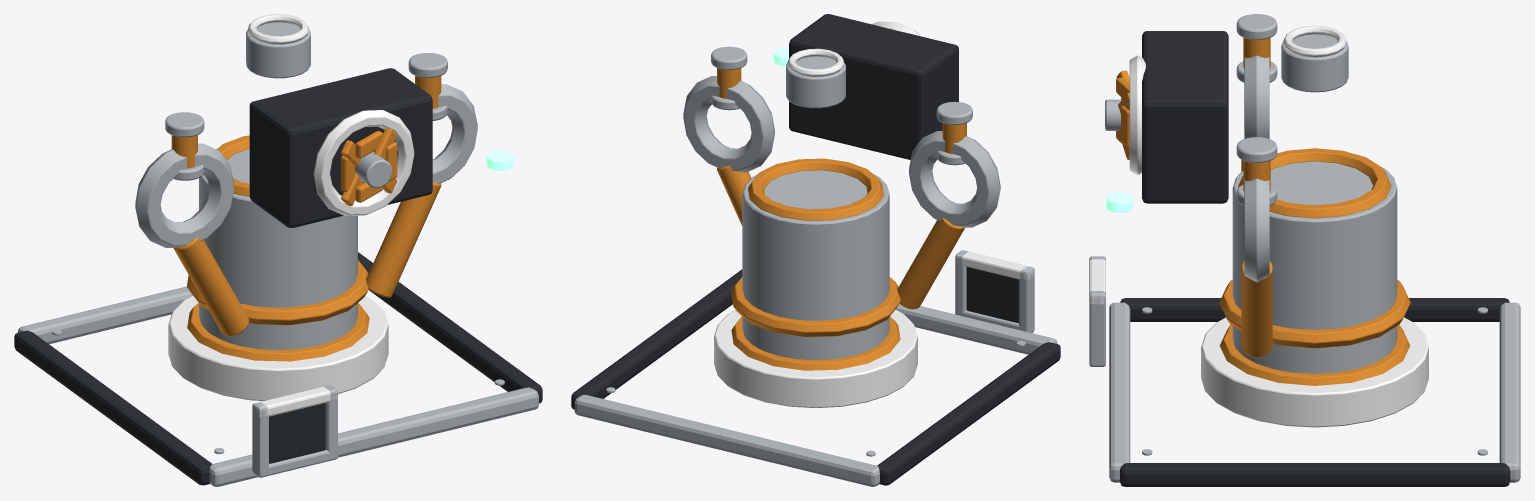
File: geo_tap.glb
The picture shows the model from 3 angles, left to right: view 1: azimuth 30°, elevation 25°; view 2: azimuth 150°, elevation 25°; view 3: azimuth 270°, elevation 25°; orthographic projection. The views are drawn at different scales.
Parts seen in each view (by area): view 1: Main_Body, Turbine_Mesh; view 2: Main_Body; view 3: Main_Body, Turbine_Mesh, StatusLens.
Boxes of the visible parts, x1,y1,x2,y2 form: Main_Body: (14, 14, 542, 486); Turbine_Mesh: (340, 128, 397, 205); Main_Body: (571, 14, 1060, 486); Main_Body: (1089, 14, 1520, 486); Turbine_Mesh: (1105, 70, 1129, 159); StatusLens: (1106, 191, 1133, 212).
Bounding box in the file's own units: 3.9 × 3.81 × 4.09.
